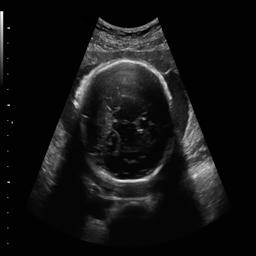normal: (72, 56, 184, 186)
